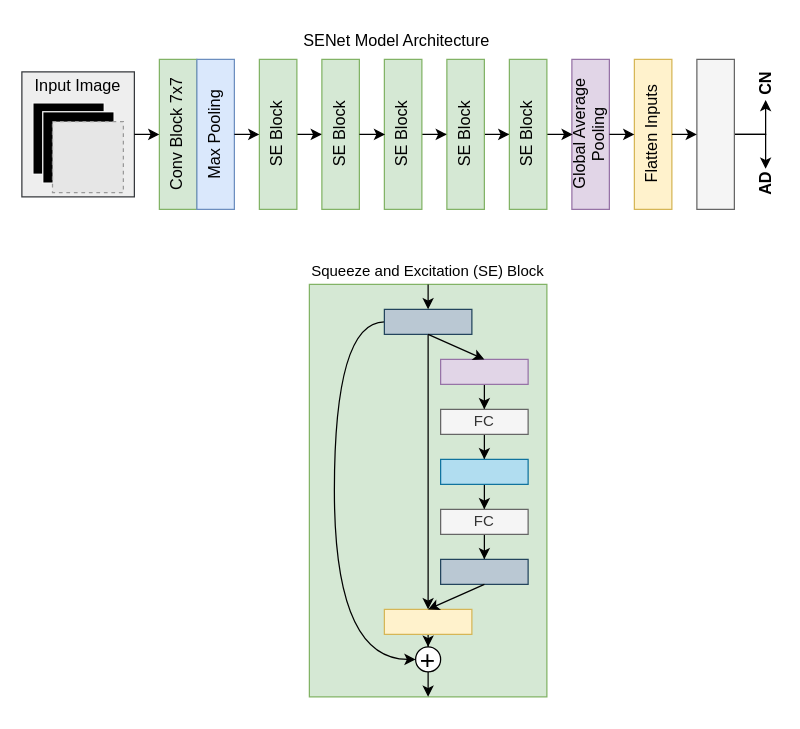
Some shapes in this 800 by 729 pixel diagram are drawn without their labels. Grey dashed boxes stand in for pictures. Each missing label, with the centre of its shape:
"FC Layer" belongs at (715,133).
"Global Pool" belongs at (483,371).
"ReLU" belongs at (483,471).
"Residual" belongs at (427,321).
"Scale" belongs at (427,621).
"Sigmoid" belongs at (483,571).
